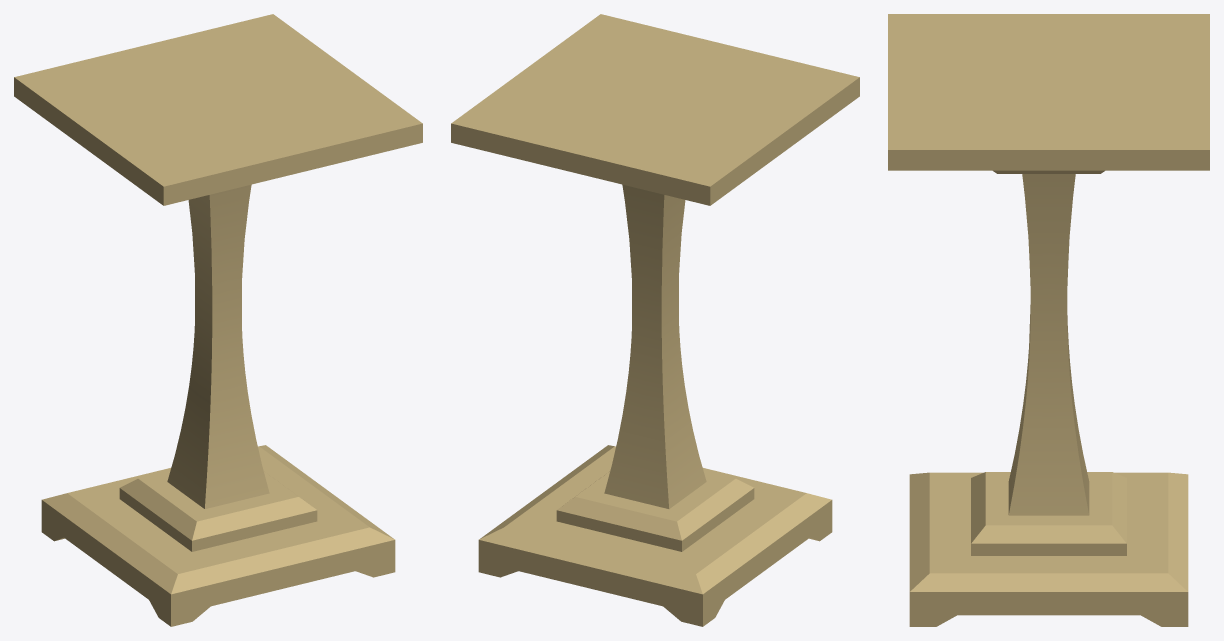
The model's file is dai.glb.
3 views of the same model, side by side, from view 1: azimuth 30°, elevation 25°; view 2: azimuth 150°, elevation 25°; view 3: azimuth 270°, elevation 25° (orthographic). The views are drawn at different scales.
Parts seen in each view (by area): view 1: komadai; view 2: komadai; view 3: komadai.
Part boxes in pixels (bbox=[...]): komadai: bbox=[14, 14, 422, 626]; komadai: bbox=[451, 14, 859, 626]; komadai: bbox=[888, 14, 1209, 626].
Size of the model in its own units: 0.12 by 0.2 by 0.12.
